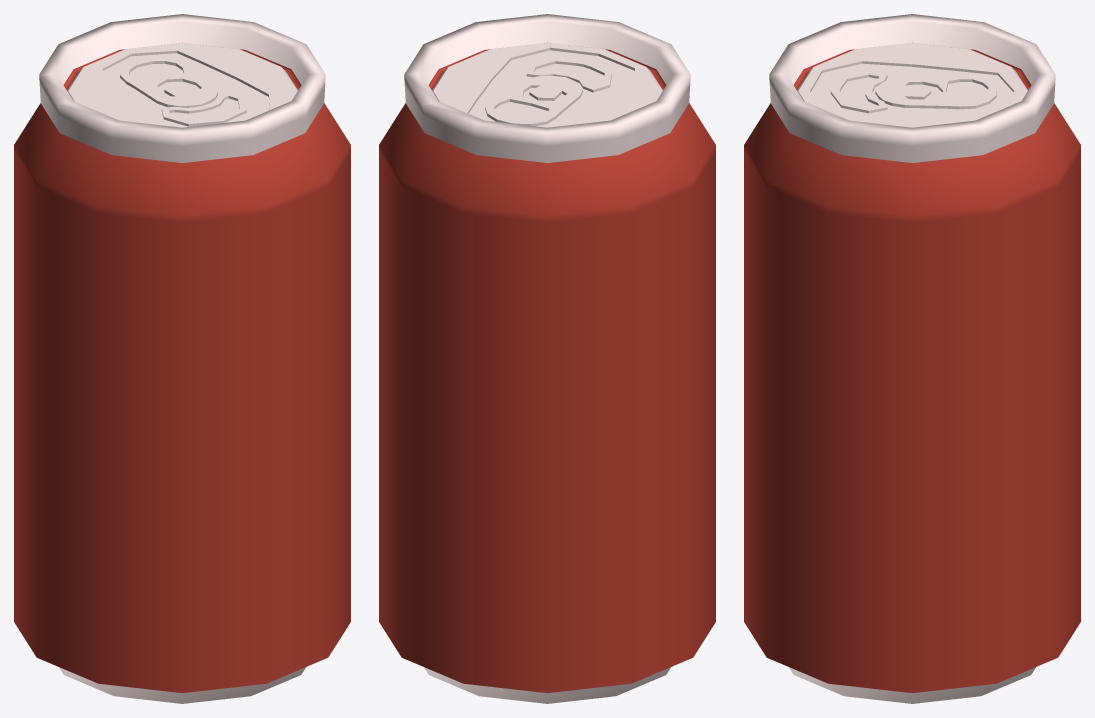
Rendered from practice.glb.
The picture shows the model from 3 angles, left to right: view 1: azimuth 30°, elevation 25°; view 2: azimuth 150°, elevation 25°; view 3: azimuth 270°, elevation 25°; orthographic projection.
Parts seen in each view (by area): view 1: Cylinder.004, Cylinder.007, Cylinder.005, Plane.001, Cylinder.006; view 2: Cylinder.004, Cylinder.007, Cylinder.005, Plane.001, Cylinder.006; view 3: Cylinder.004, Cylinder.007, Cylinder.005, Plane.001, Cylinder.006.
Boxes of the visible parts, x1,y1,x2,y2 form: Cylinder.004: (14, 42, 350, 693); Cylinder.007: (39, 14, 325, 162); Cylinder.005: (68, 43, 296, 127); Plane.001: (120, 57, 217, 107); Cylinder.006: (59, 667, 305, 703); Cylinder.004: (379, 42, 715, 693); Cylinder.007: (404, 14, 690, 162); Cylinder.005: (433, 43, 661, 127); Plane.001: (485, 75, 582, 126); Cylinder.006: (424, 667, 670, 703); Cylinder.004: (744, 42, 1080, 693); Cylinder.007: (769, 14, 1055, 162); Cylinder.005: (798, 43, 1026, 127); Plane.001: (875, 75, 996, 109); Cylinder.006: (789, 667, 1035, 703).
Bounding box in the file's own units: 0.4277 × 0.801 × 0.4277.
